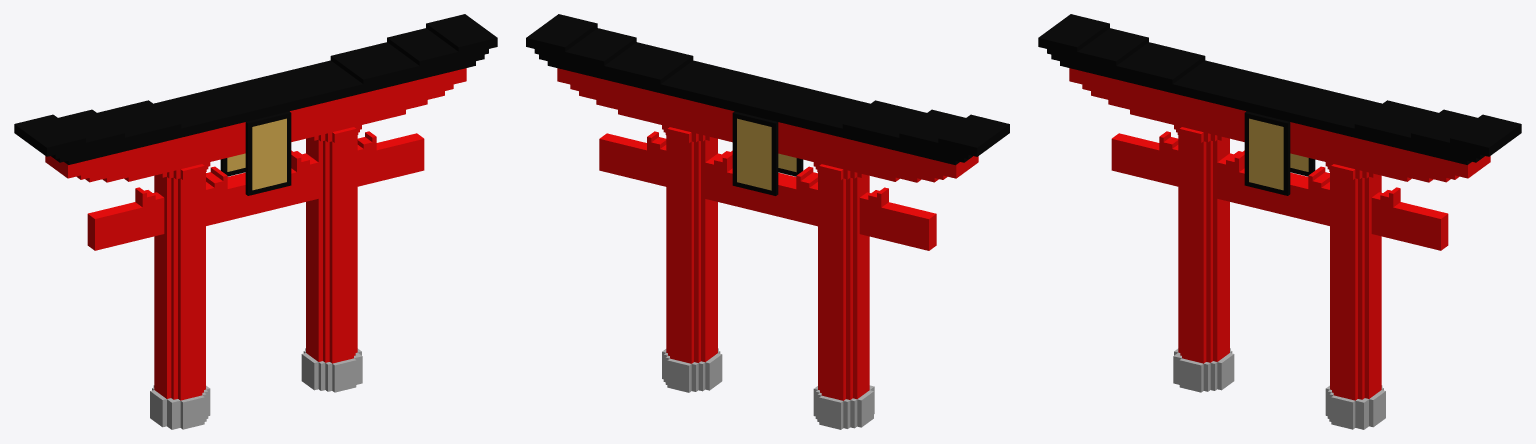
File: BarrierGate.fbx
3 views of the same model, side by side, from view 1: azimuth 30°, elevation 25°; view 2: azimuth 150°, elevation 25°; view 3: azimuth 330°, elevation 25° (orthographic).
Parts seen in each view (by area): view 1: ObjObject.002; view 2: ObjObject.002; view 3: ObjObject.002.
Part boxes in pixels (<box>): ObjObject.002: <box>14,14,497,429</box>; ObjObject.002: <box>526,14,1009,429</box>; ObjObject.002: <box>1038,14,1521,429</box>.
Size of the model in its own units: 884 by 595 by 110.
